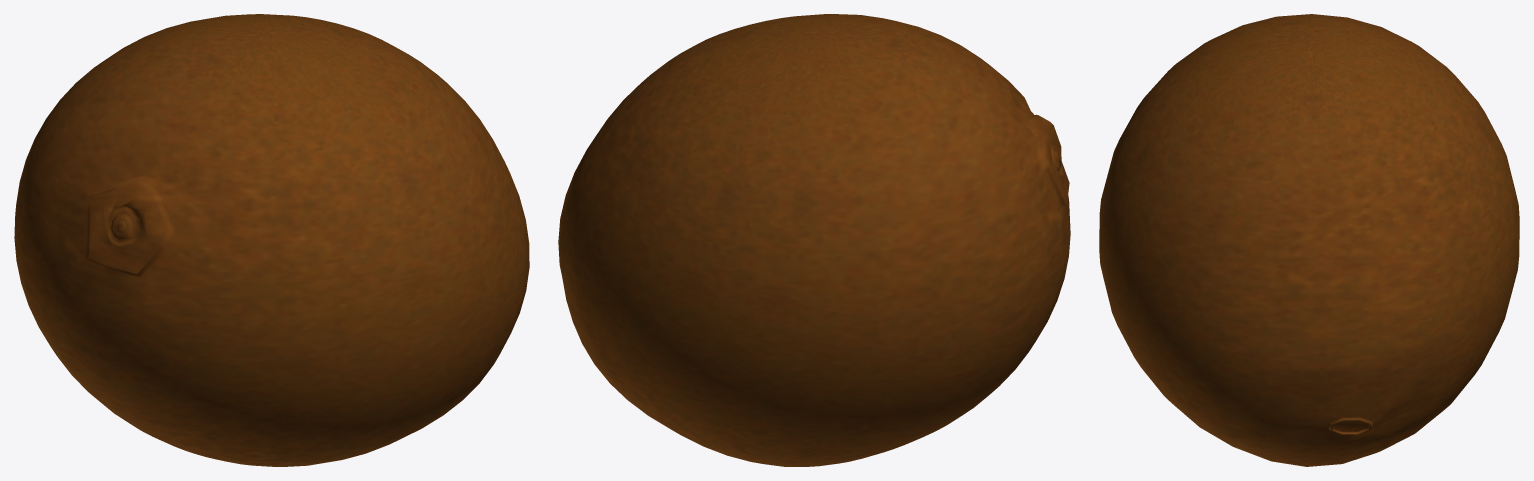
Rendered from kiwi.obj.
3 renders of one model, left to right at view 1: azimuth 30°, elevation 25°; view 2: azimuth 150°, elevation 25°; view 3: azimuth 270°, elevation 25°, orthographic. The views are drawn at different scales.
Visible parts, largest first — view 1: pSphere6_Untitled.008; view 2: pSphere6_Untitled.008; view 3: pSphere6_Untitled.008.
Part boxes in pixels (x1=…): pSphere6_Untitled.008: x1=14, y1=14, x2=529, y2=466; pSphere6_Untitled.008: x1=558, y1=14, x2=1070, y2=466; pSphere6_Untitled.008: x1=1099, y1=14, x2=1519, y2=466.
Bounding box in the file's own units: 0.1619 × 0.1408 × 0.1423.
1 material, 1 textured.
